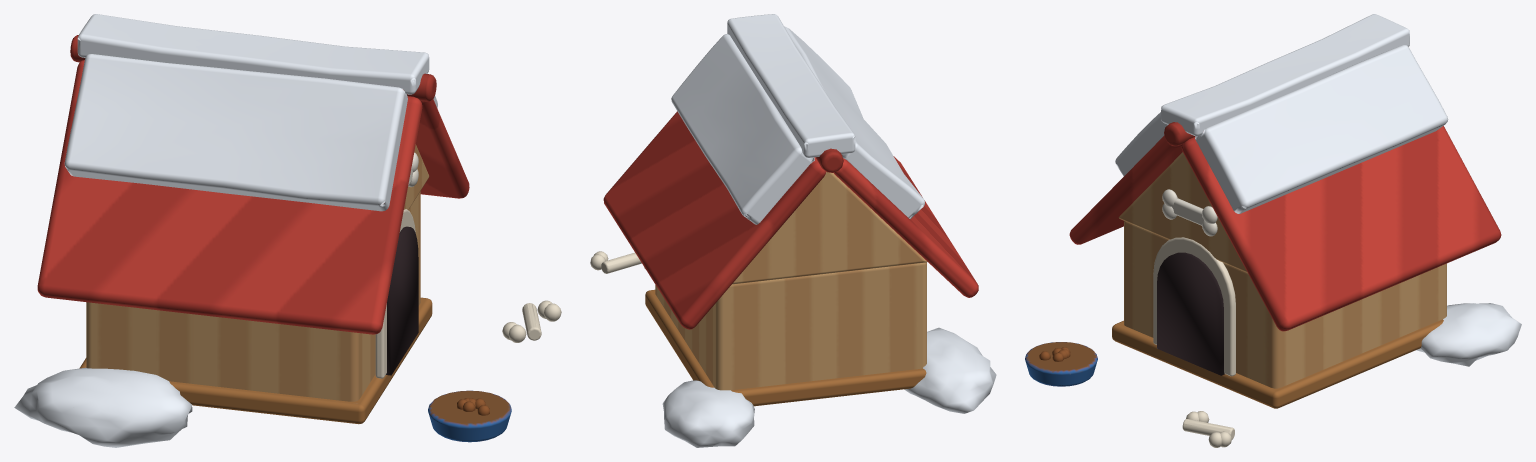
File: dog_house.glb
3 renders of one model, left to right at view 1: azimuth 30°, elevation 25°; view 2: azimuth 150°, elevation 25°; view 3: azimuth 270°, elevation 25°, orthographic. The views are drawn at different scales.
Visible parts, largest first — view 1: base; view 2: base; view 3: base.
Boxes of the visible parts, box(x1,y1,x2,y2) form: base: box(14, 14, 561, 447); base: box(590, 14, 996, 447); base: box(1025, 14, 1521, 447).
Size of the model in its own units: 1.85 by 1.23 by 1.86.
1 material, 1 textured.
